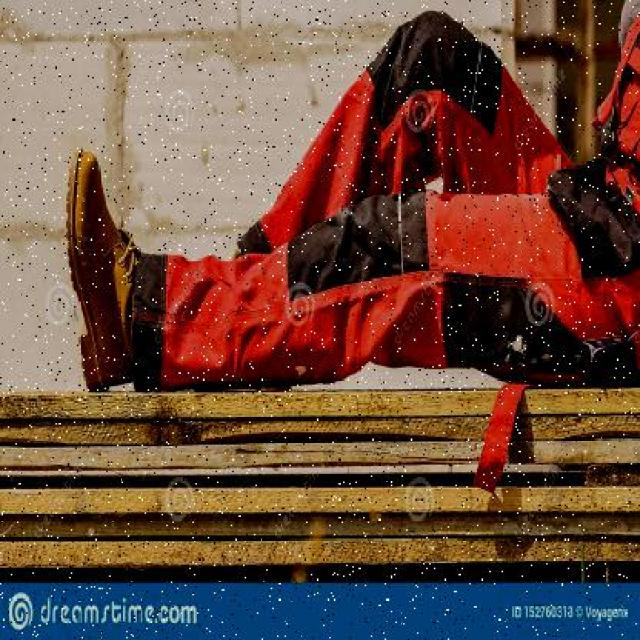shoes: (61, 143, 142, 391)
